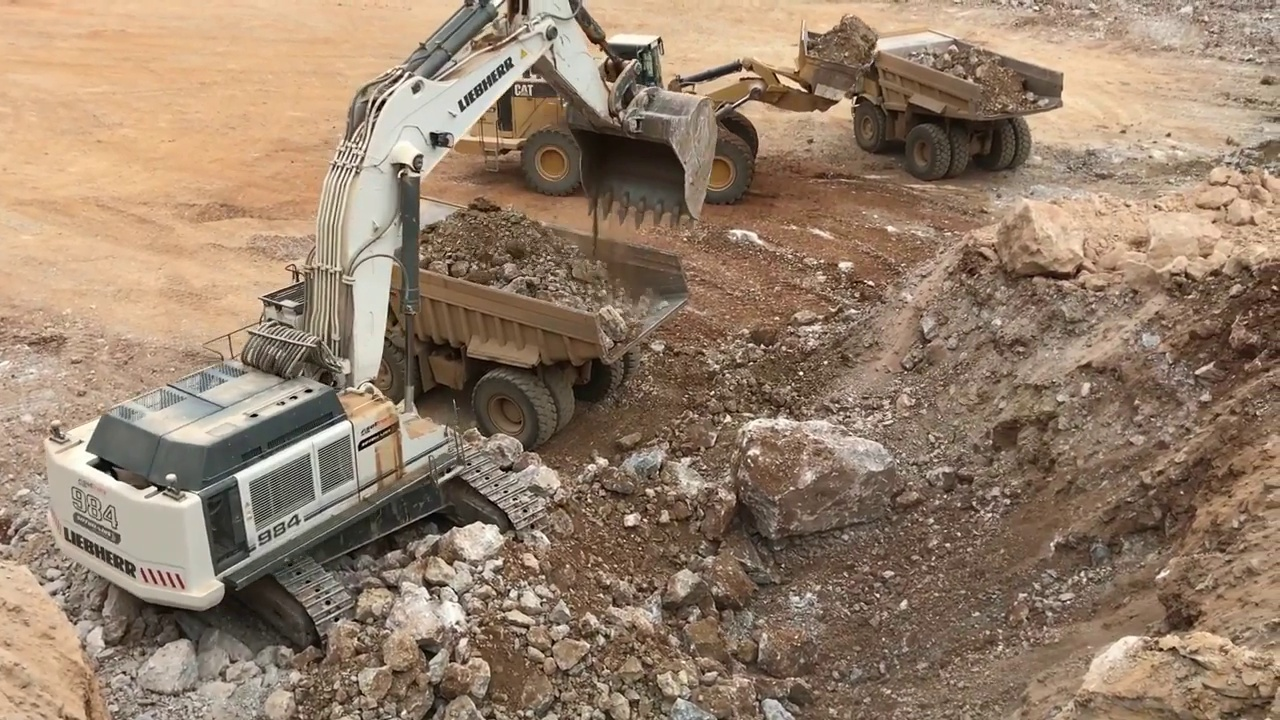dumper: (333, 189, 695, 456), (857, 21, 1065, 179)
excavator: (37, 1, 721, 651)
wheel loader: (436, 26, 878, 204)
